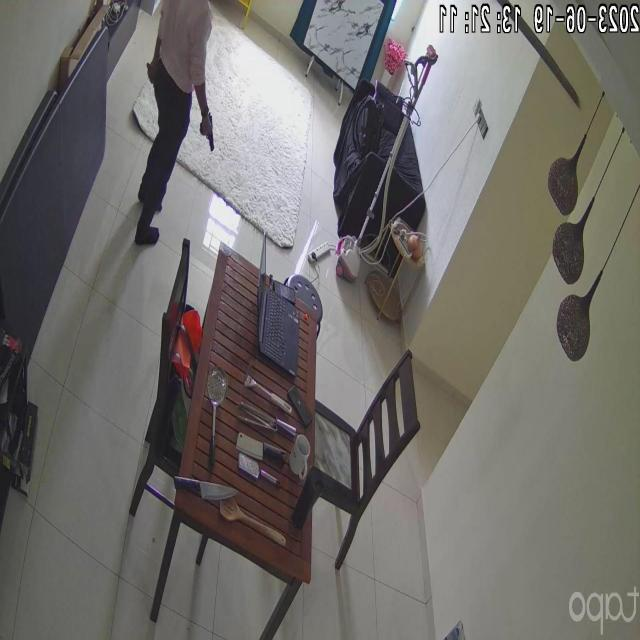Gun: (198, 106, 226, 152)
Knife: (159, 459, 241, 504)
